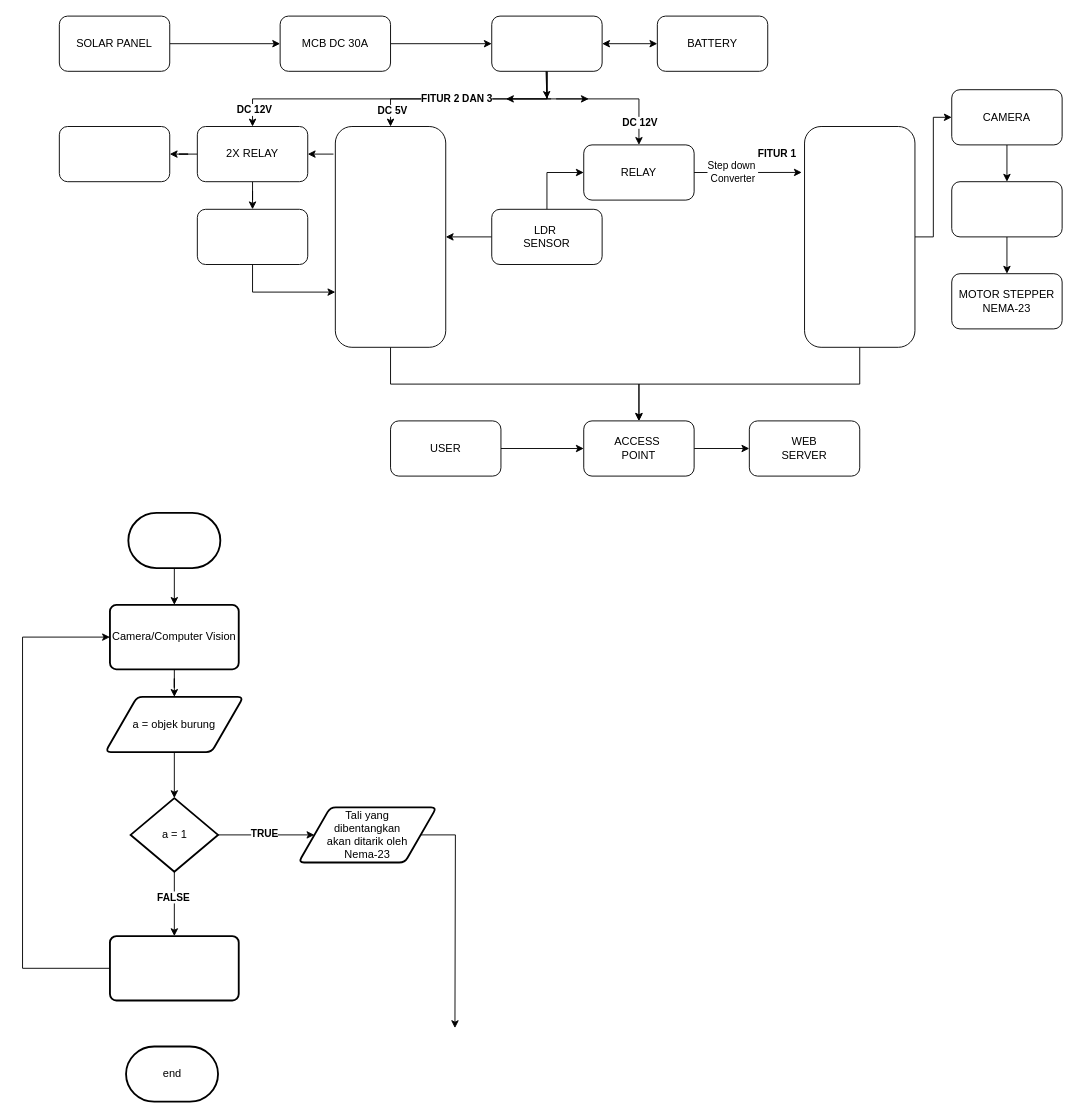
Some shapes in this 1078 by 1119 pixel diagram are drawn without their labels. Each missing label, with the centre of its shape:
"Default Statement" belongs at (174,968).
"DRIVER TB6600" belongs at (1006,209).
"ESP-32" belongs at (390,236).
"LAMPU" belongs at (114,154).
"NPK 7IN1 SENSOR" belongs at (252,236).
"ORANGE PI 4A" belongs at (859,236).
"Orange pi 4a Aktif" belongs at (174,540).
"SCC (SOLAR CHARGE CONTROL)" belongs at (546,43).
